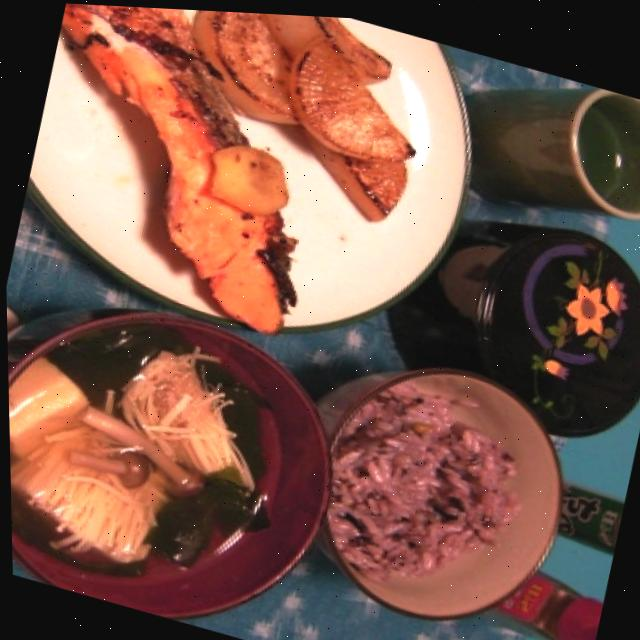汤锅炖物: (5, 261, 370, 640)
熟制海鲜: (2, 0, 401, 364)
米饭主食: (289, 345, 583, 640)
